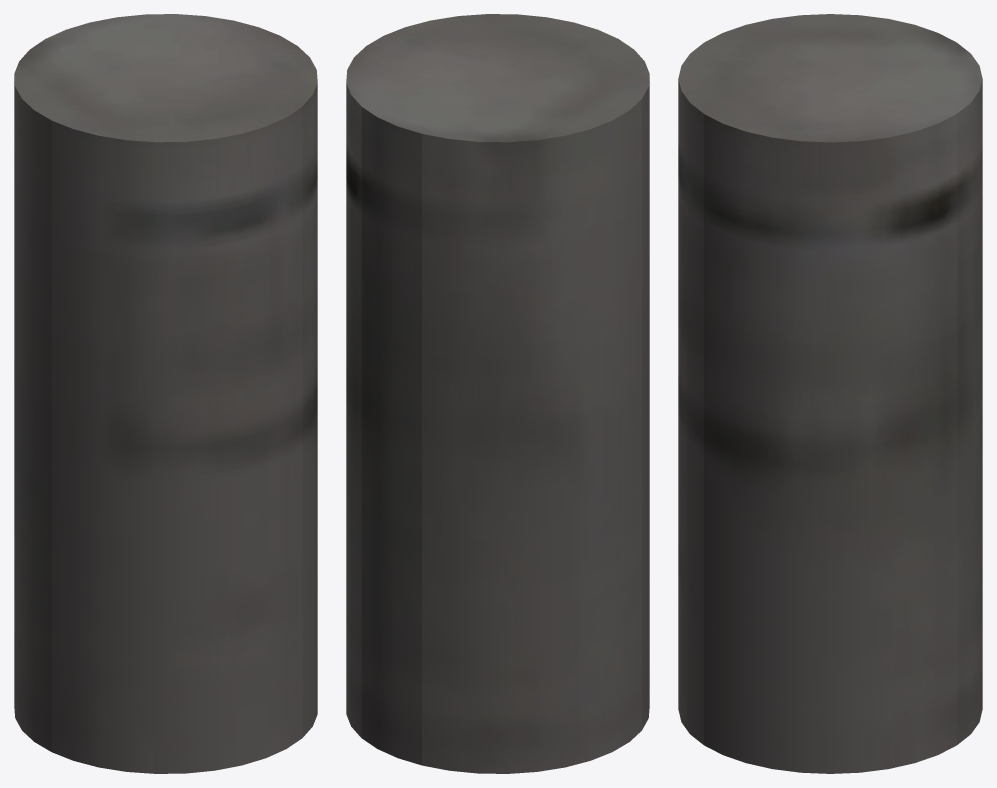
The model's file is wheel_1__hub_sleeve.glb.
3 views of the same model, side by side, from view 1: azimuth 30°, elevation 25°; view 2: azimuth 150°, elevation 25°; view 3: azimuth 270°, elevation 25° (orthographic).
Parts seen in each view (by area): view 1: world; view 2: world; view 3: world.
Boxes of the visible parts, x1,y1,x2,y2 form: world: (14,14,317,773); world: (346,14,649,773); world: (678,14,982,773).
Size of the model in its own units: 0.024 by 0.055 by 0.024.
1 material, 1 textured.
